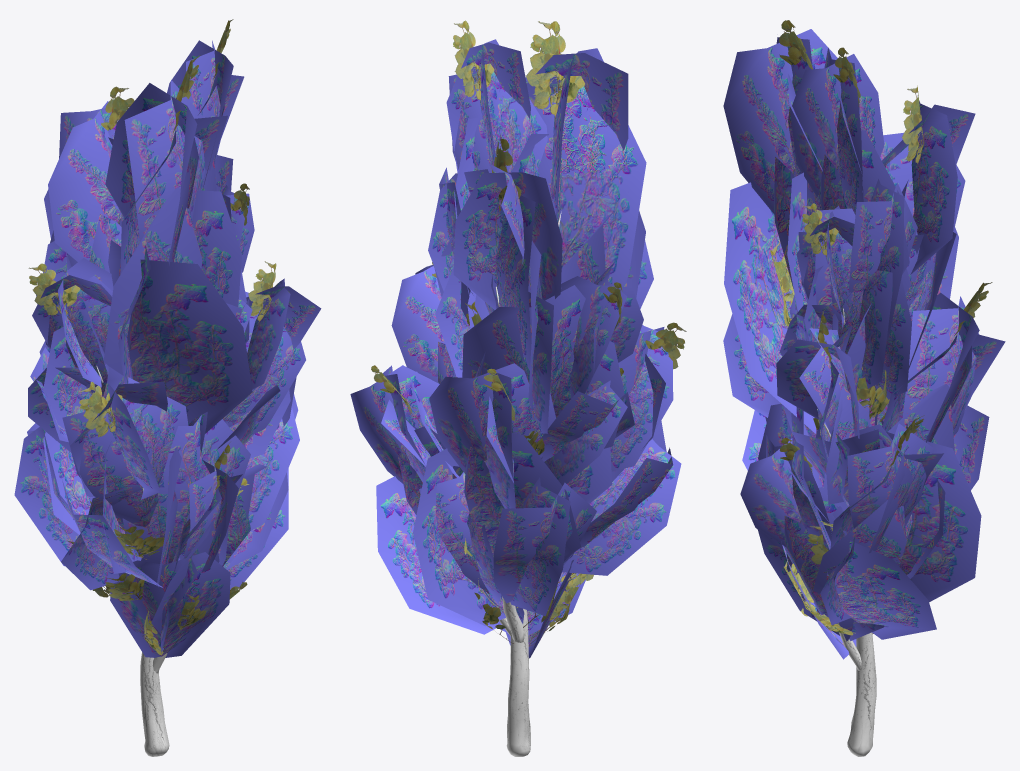
The model's file is PoplarTree00d.fbx.
3 views of the same model, side by side, from view 1: azimuth 30°, elevation 25°; view 2: azimuth 150°, elevation 25°; view 3: azimuth 270°, elevation 25° (orthographic). The views are drawn at different scales.
Parts seen in each view (by area): view 1: PoplarBranchB024, PoplarBranchA006, PoplarBranchB019, PoplarBranchB027, PoplarBranchA037, PoplarBranchA, PoplarBranchB023, PoplarBranchB022, PoplarBranchB018, PoplarBranchA005, PoplarBranchA011, PoplarBranchA046 (+42 smaller); view 2: PoplarBranchA036, PoplarBranchB019, PoplarBranchB001, PoplarBranchA010, PoplarBranchB021, PoplarBranchB003, PoplarBranchB030, PoplarBranchB002, PoplarBranchA026, PoplarBranchA003, PoplarBranchB028, PoplarBranchB010 (+41 smaller); view 3: PoplarBranchB024, PoplarBranchB022, PoplarBranchB003, PoplarBranchB016, PoplarBranchB030, PoplarBranchB019, PoplarBranchA002, PoplarBranchA047, PoplarBranchB025, PoplarBranchA028, PoplarBranchB010, PoplarBranchA027 (+46 smaller).
Part boxes in pixels (left/top/right/bottom): PoplarBranchB024: left=108, top=240, right=252, bottom=433; PoplarBranchA006: left=62, top=377, right=188, bottom=526; PoplarBranchB019: left=48, top=101, right=121, bottom=261; PoplarBranchB027: left=110, top=552, right=230, bottom=657; PoplarBranchA037: left=124, top=80, right=205, bottom=241; PoplarBranchA: left=141, top=415, right=250, bottom=563; PoplarBranchB023: left=103, top=186, right=202, bottom=379; PoplarBranchB022: left=105, top=83, right=198, bottom=265; PoplarBranchB018: left=192, top=190, right=242, bottom=306; PoplarBranchA005: left=14, top=427, right=78, bottom=566; PoplarBranchA011: left=36, top=275, right=112, bottom=396; PoplarBranchA046: left=246, top=406, right=299, bottom=529; PoplarBranchA036: left=525, top=77, right=646, bottom=286; PoplarBranchB019: left=453, top=172, right=562, bottom=309; PoplarBranchB001: left=429, top=363, right=555, bottom=473; PoplarBranchA010: left=562, top=439, right=681, bottom=575; PoplarBranchB021: left=462, top=285, right=585, bottom=404; PoplarBranchB003: left=413, top=448, right=572, bottom=626; PoplarBranchB030: left=376, top=476, right=501, bottom=634; PoplarBranchB002: left=464, top=433, right=580, bottom=560; PoplarBranchA026: left=448, top=72, right=547, bottom=176; PoplarBranchA003: left=493, top=482, right=596, bottom=603; PoplarBranchB028: left=350, top=365, right=439, bottom=483; PoplarBranchB010: left=391, top=266, right=444, bottom=383; PoplarBranchB024: left=724, top=182, right=815, bottom=433; PoplarBranchB022: left=723, top=29, right=837, bottom=213; PoplarBranchB003: left=880, top=419, right=981, bottom=602; PoplarBranchB016: left=790, top=54, right=884, bottom=196; PoplarBranchB030: left=832, top=506, right=936, bottom=639; PoplarBranchB019: left=910, top=95, right=957, bottom=274; PoplarBranchA002: left=902, top=296, right=978, bottom=435; PoplarBranchA047: left=847, top=423, right=933, bottom=528; PoplarBranchB025: left=740, top=438, right=801, bottom=547; PoplarBranchA028: left=848, top=182, right=917, bottom=292; PoplarBranchB010: left=776, top=339, right=859, bottom=438; PoplarBranchA027: left=824, top=47, right=863, bottom=214.
Size of the model in its own units: 1172 by 2868 by 985.
